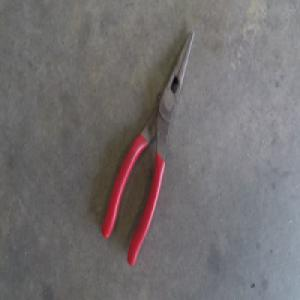Pliers: (104, 27, 194, 261)
